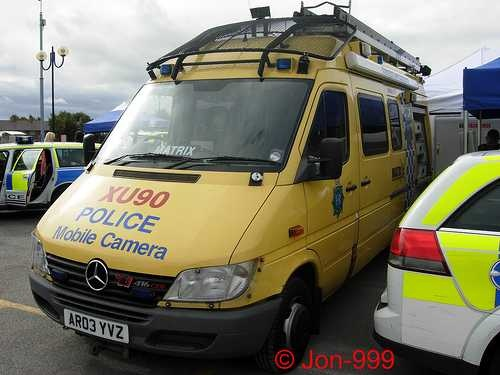Police Van: (25, 13, 440, 359)
